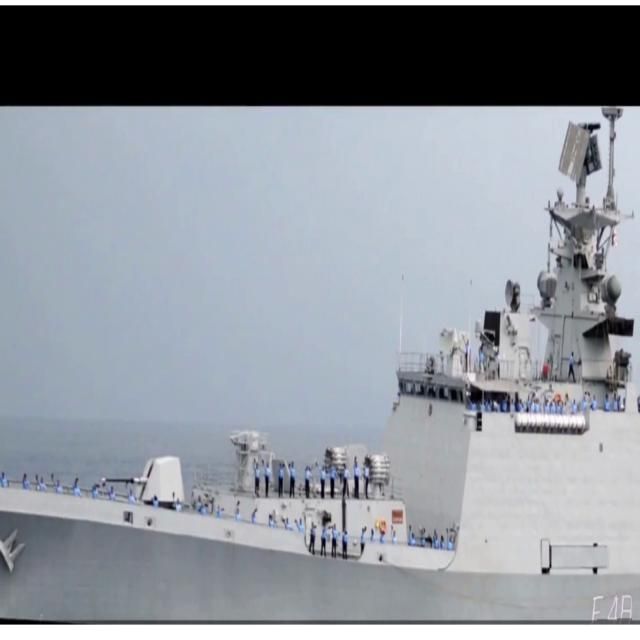OCR: (586, 586, 632, 623)
